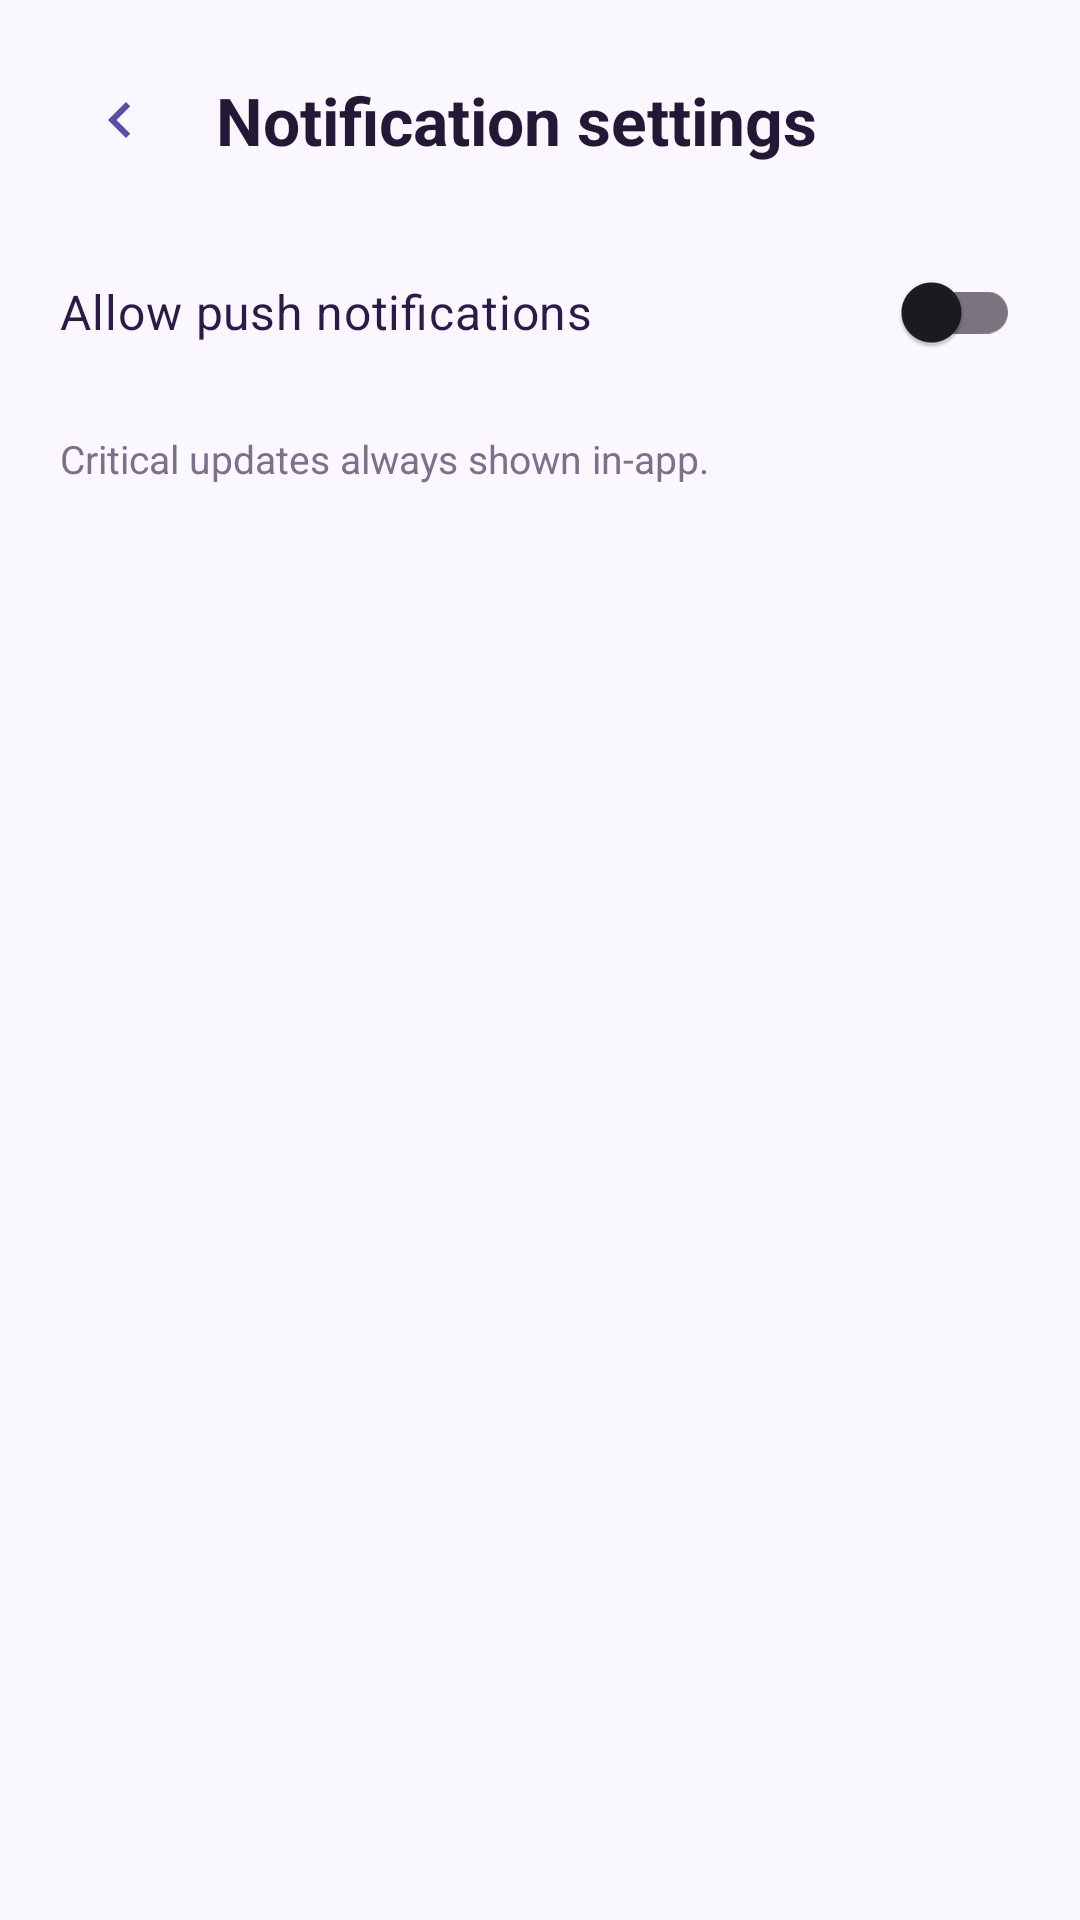

Screen size 1080px×1920px. Icon name, then its center in pixels as [x,y]:
Back: [119,120]
